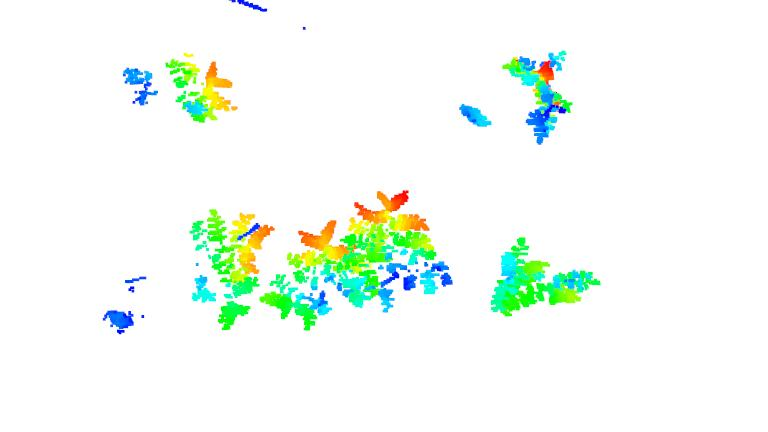chickpea: (351, 189, 454, 310), (262, 220, 357, 337), (194, 210, 278, 334), (486, 235, 601, 318), (504, 44, 576, 149), (162, 53, 241, 128), (120, 66, 163, 120), (457, 98, 495, 135)
